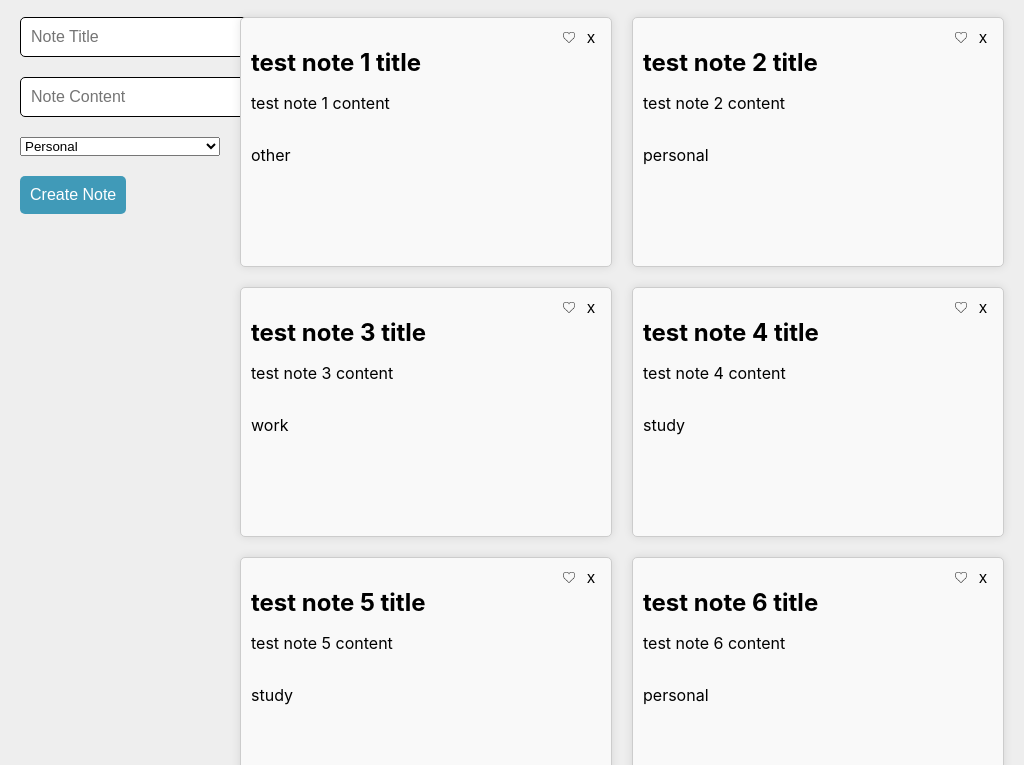
Test: Create StickyNote › creates a new note
Type "New Note" into the field with placeholder "Note Title" at (134, 37), box 20,17 -> 249,57
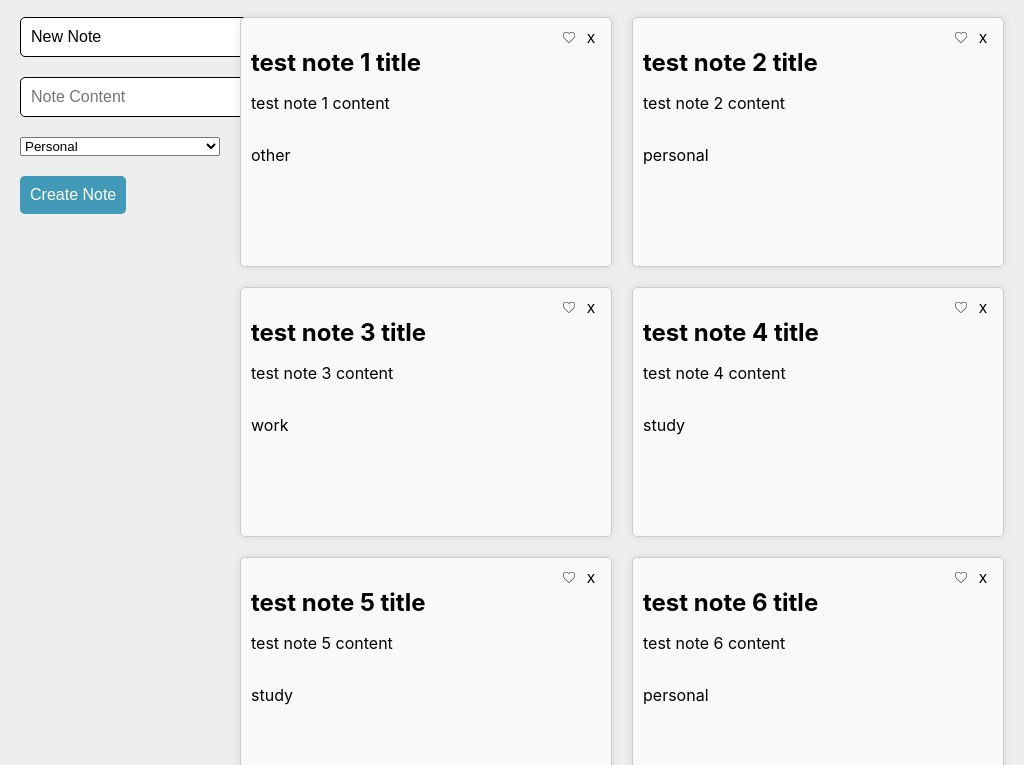
Type "Note content" into the field with placeholder "Note Content" at (134, 97), box 20,77 -> 249,117
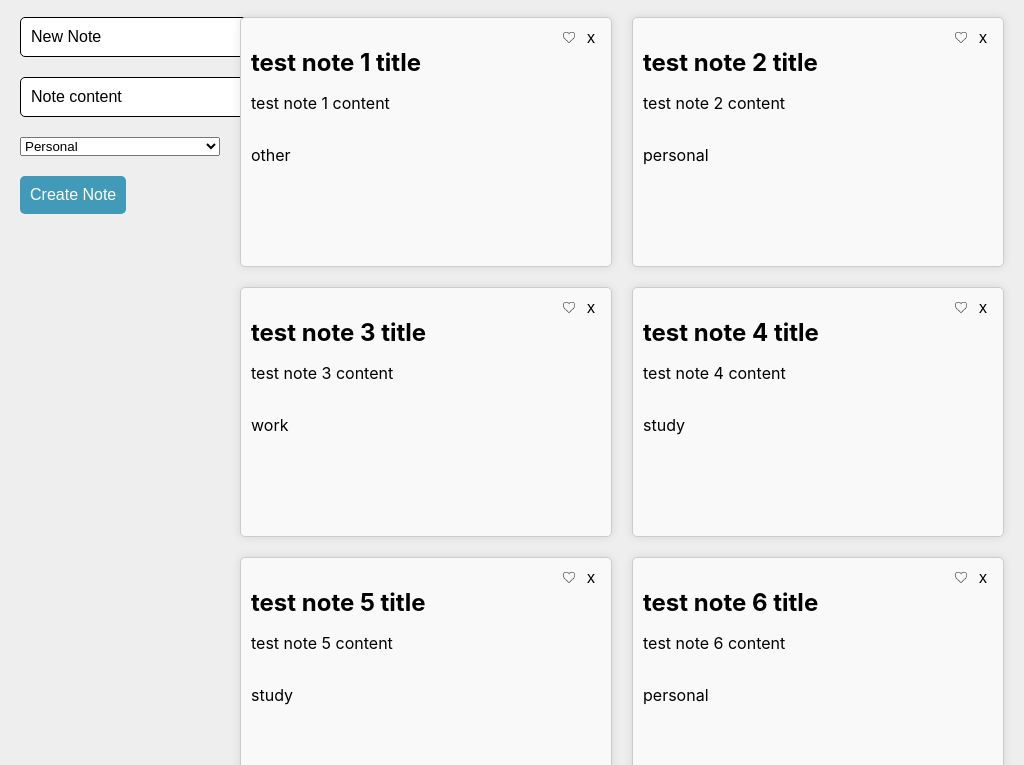
Click the button "Create Note" at (73, 195), box 20,176 -> 126,214
(page scrolled)
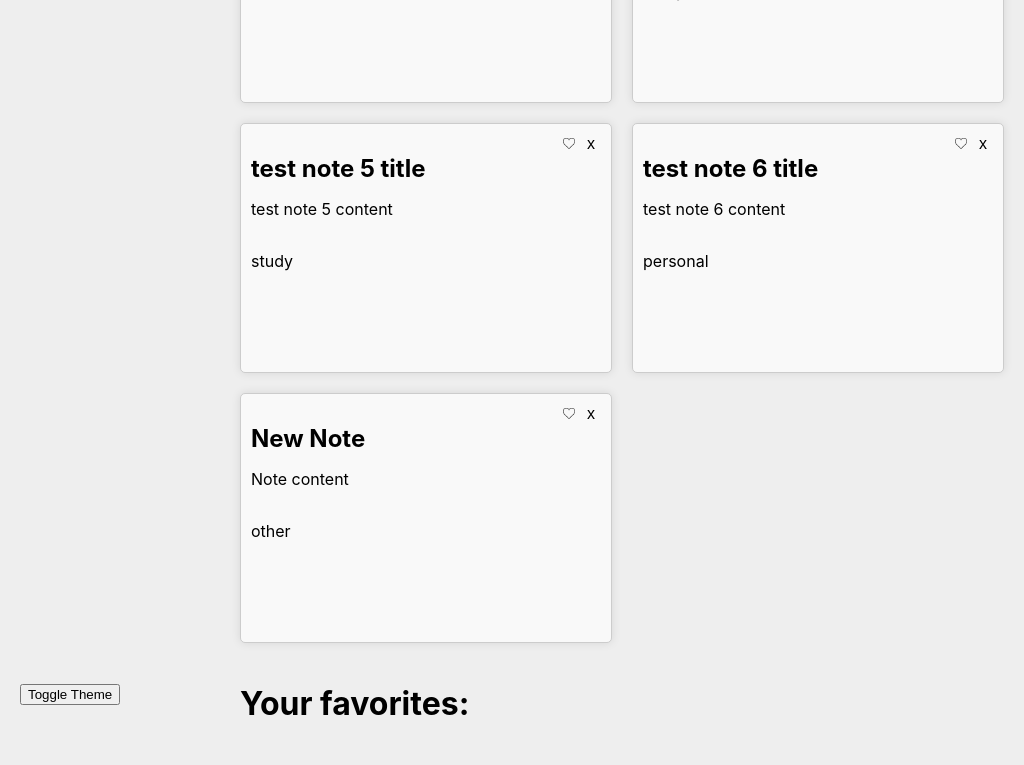
Expected: the heading "New Note" is shown, 251,424 -> 365,453
Expected: the text box "Note content" is shown, 251,469 -> 349,489
